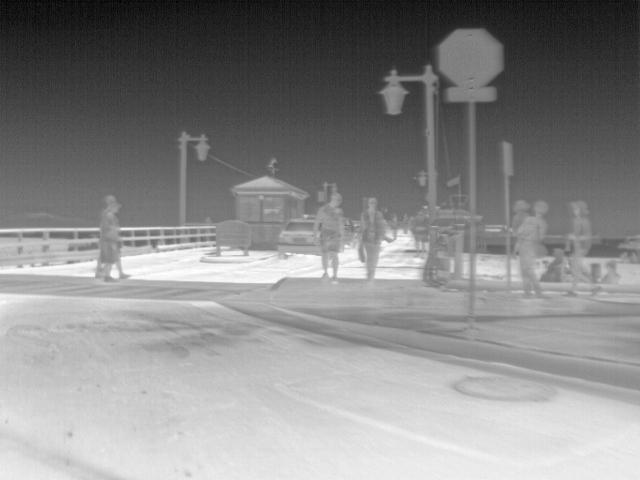car: (278, 218, 318, 258)
person: (314, 190, 350, 283), (565, 197, 598, 296), (353, 198, 393, 279), (516, 203, 547, 298), (96, 200, 122, 284), (506, 199, 529, 238), (410, 210, 429, 251), (542, 255, 564, 283), (598, 259, 620, 285), (387, 214, 401, 239), (400, 212, 413, 234)
